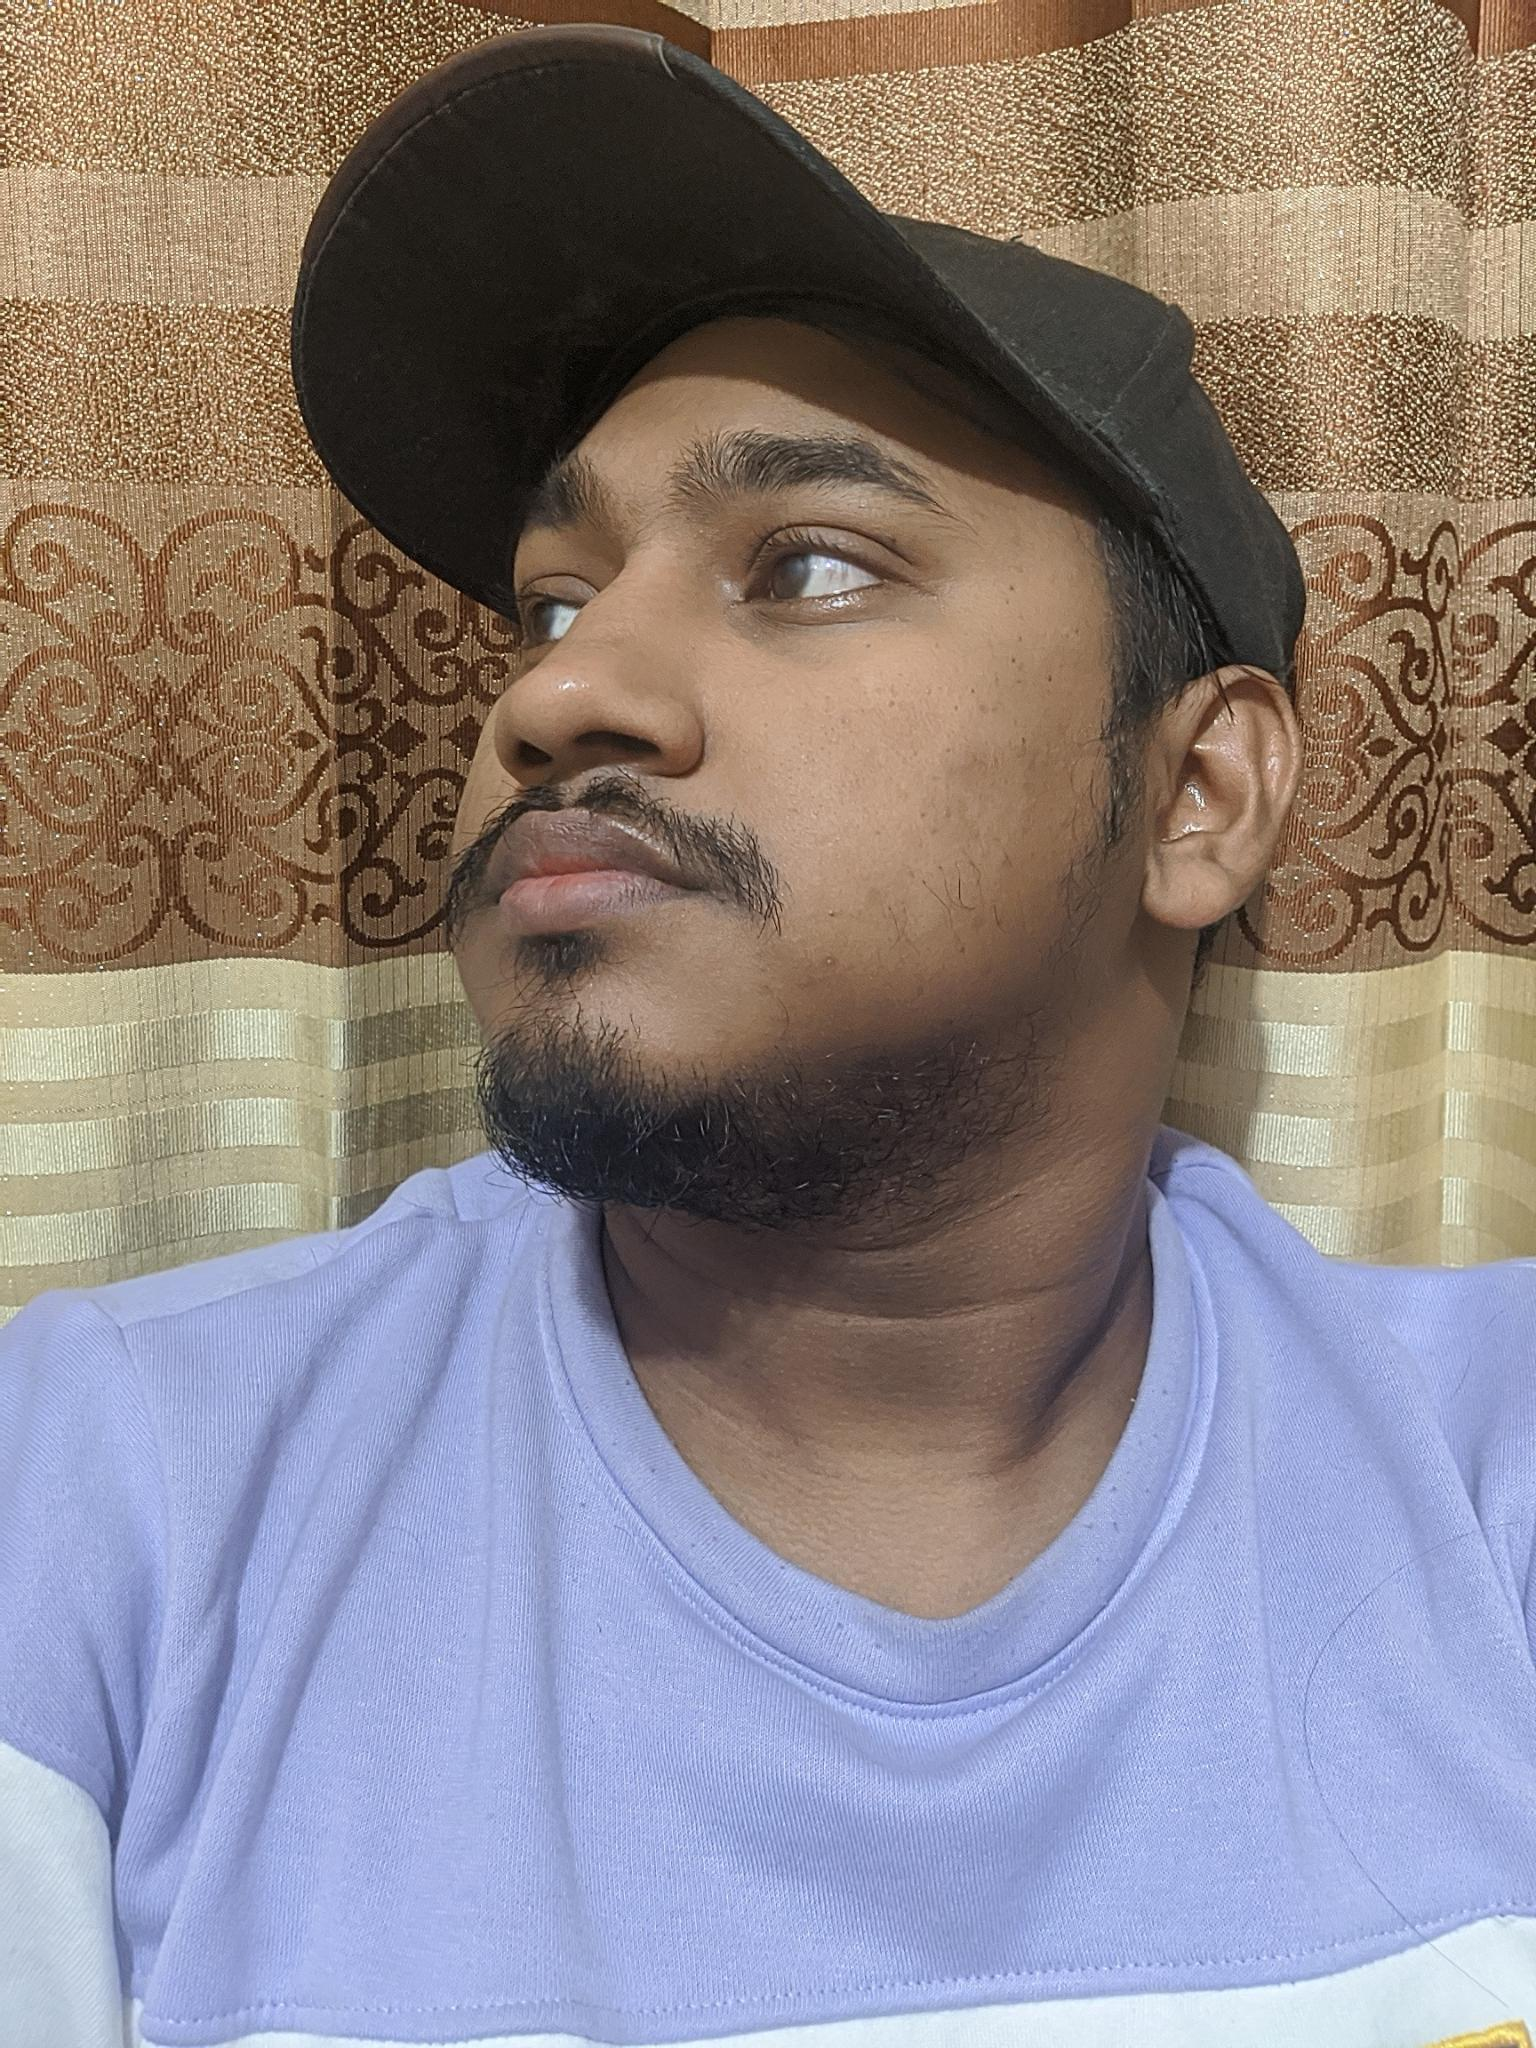Neutral: (397, 389, 1084, 1122)
